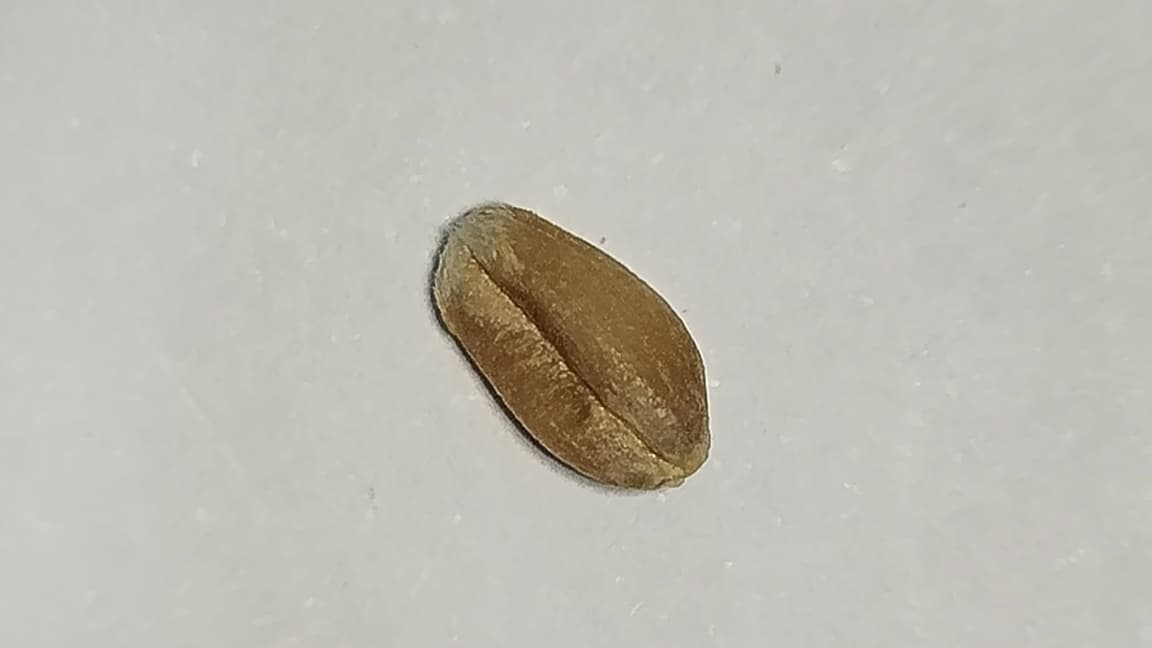healthy: (429, 202, 711, 489)
